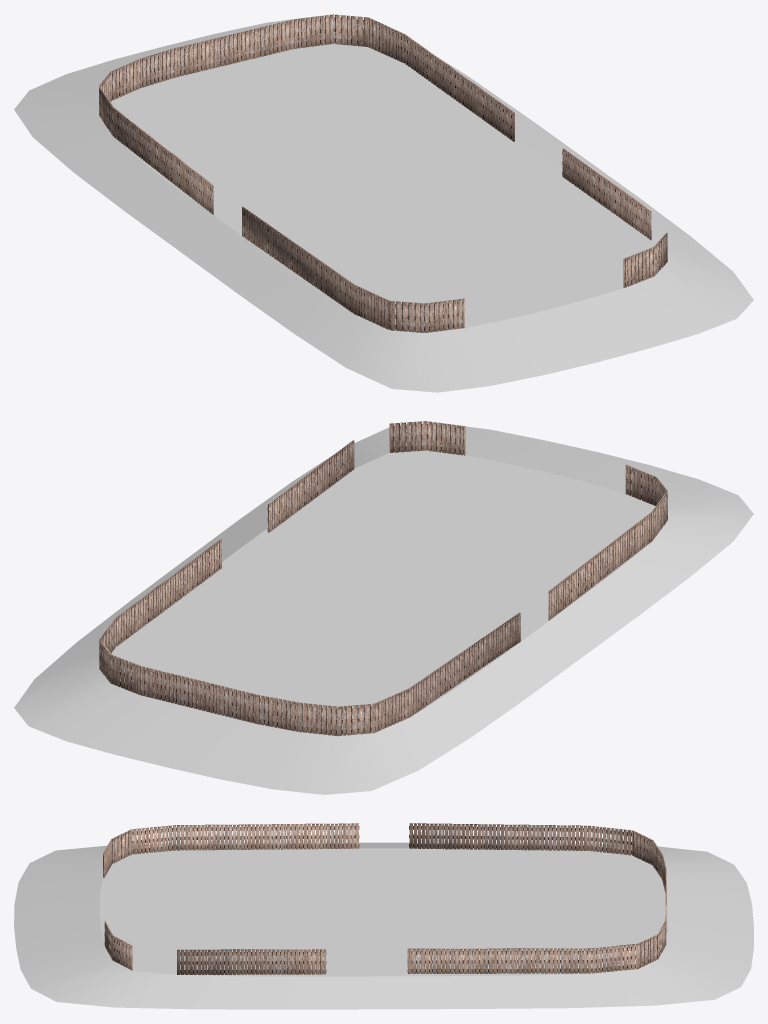
Rendered from FarmGround.fbx.
3 renders of one model, top to bottom at view 1: azimuth 30°, elevation 25°; view 2: azimuth 150°, elevation 25°; view 3: azimuth 270°, elevation 25°, orthographic. The views are drawn at different scales.
Visible parts, largest first — view 1: farmGround, groundDigged.002, FenceMAIN; view 2: farmGround, groundDigged.002, FenceMAIN; view 3: farmGround, groundDigged.002, FenceMAIN.
Boxes of the visible parts, x1=… form: farmGround: x1=99, y1=43, x2=666, y2=332; groundDigged.002: x1=14, y1=16, x2=753, y2=392; FenceMAIN: x1=99, y1=14, x2=667, y2=332; farmGround: x1=100, y1=450, x2=667, y2=735; groundDigged.002: x1=14, y1=423, x2=753, y2=794; FenceMAIN: x1=99, y1=421, x2=667, y2=736; farmGround: x1=99, y1=848, x2=668, y2=976; groundDigged.002: x1=14, y1=842, x2=753, y2=1009; FenceMAIN: x1=103, y1=823, x2=666, y2=974.
Size of the model in its own units: 52.11 by 5.65 by 97.56.
2 materials, 1 textured.
